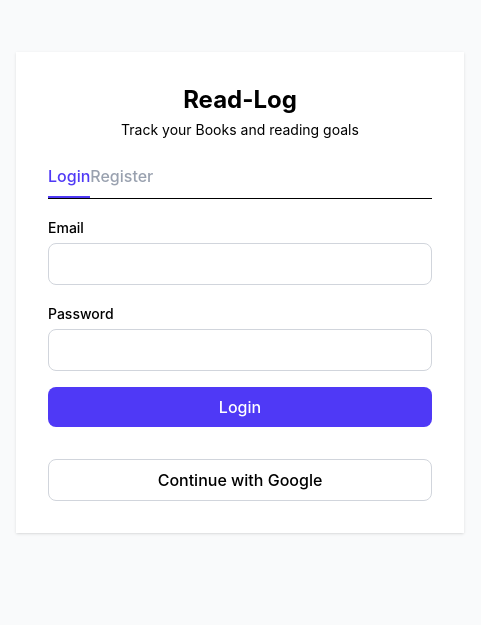
Test: Login page › shows an error when the password is too weak
Click the tab "Register" at (122,180), box [90,164,153,196]
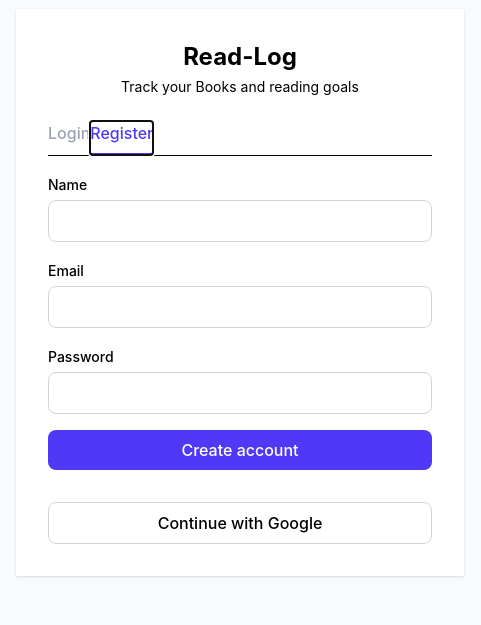
Type "Ada Lovelace" into the field labelled "Name" at (240,220), box [48,200,432,242]
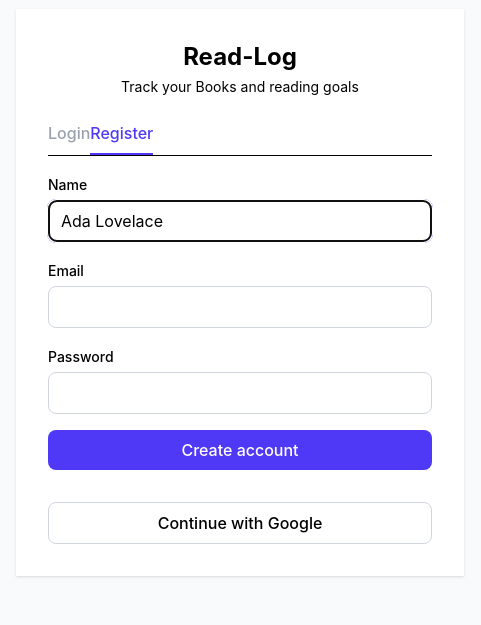
Type "ada@example.com" into the field labelled "Email" at (240,306), box [48,286,432,328]
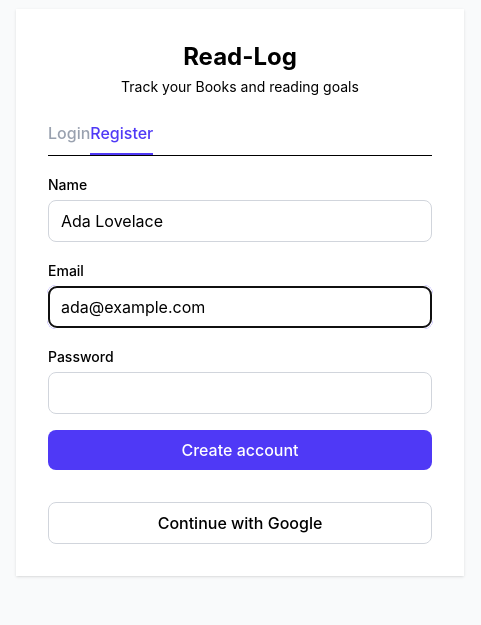
Type "secret123" into the password field labelled "Password" at (240,392), box [48,372,432,414]
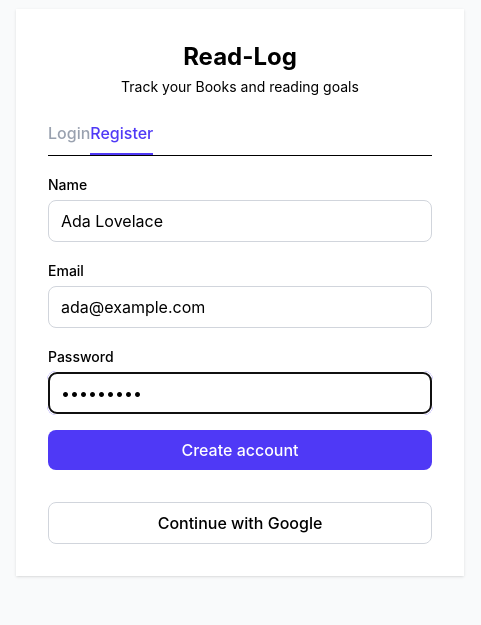
Click the button "Create account" at (240,450), box [48,430,432,470]
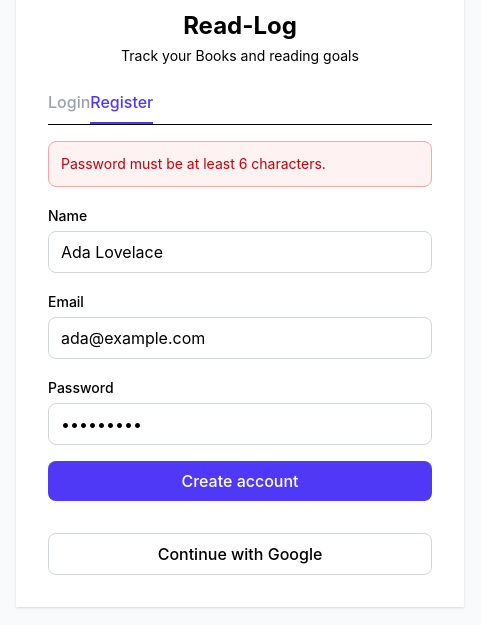
Expected: the text "Password must be at least 6 characters." is shown, [48,140,432,186]
